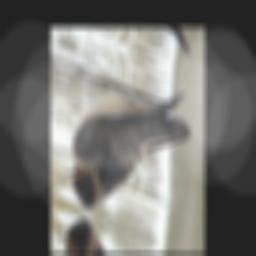Swallow: (63, 48, 195, 246)
